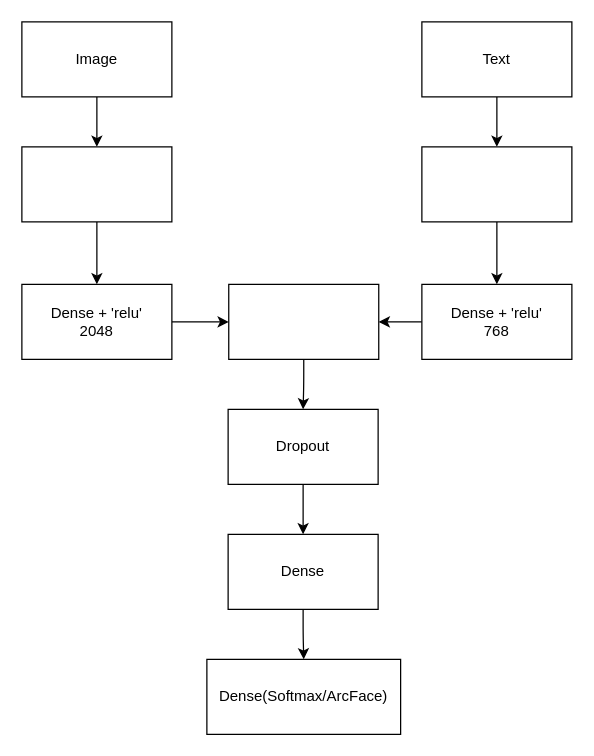
Image size: 594x756. Some labels were removed from this diagram. The shapes that lost their labels are listed below. From the top down, each one's centre as x and y in pixels, then its label:
At pixel 96 184: "VGG19 feature extraction".
At pixel 496 184: "BERT feature extraction".
At pixel 303 321: "Concatenate".
